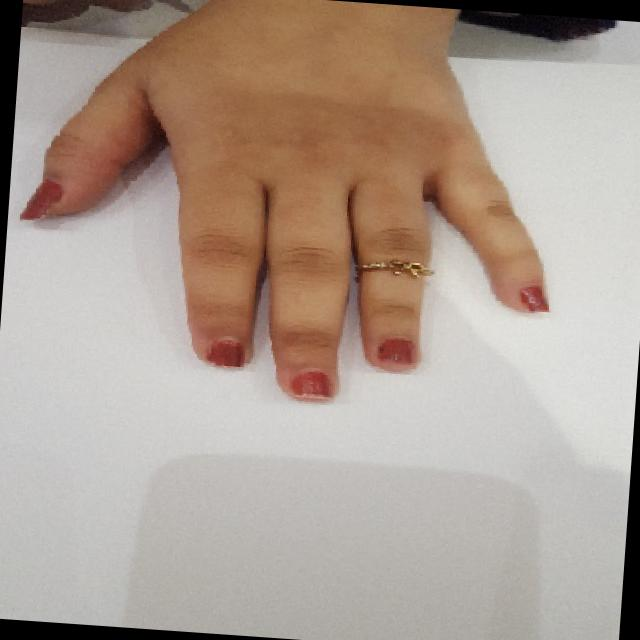Nail: (19, 181, 61, 219), (288, 369, 329, 399), (204, 340, 244, 368), (377, 337, 414, 366), (520, 286, 548, 311)
